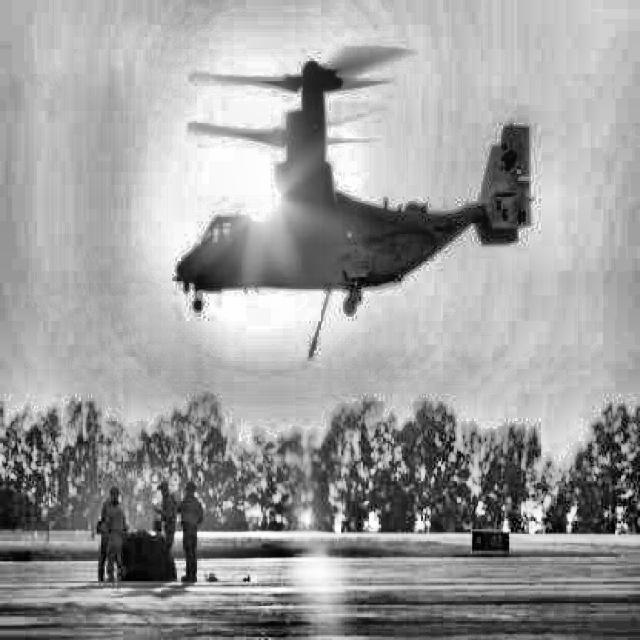V22: (172, 44, 536, 316)
